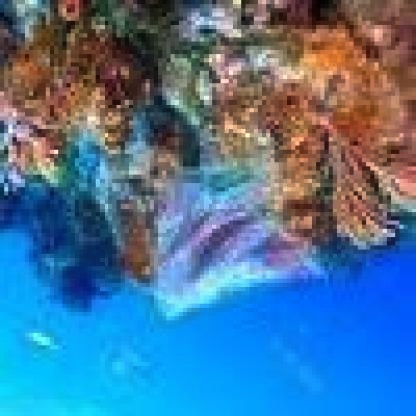pbag: (141, 125, 333, 320)
